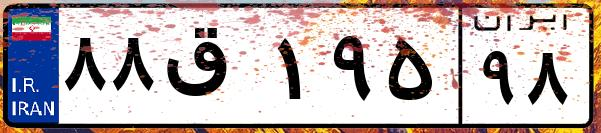1: (270, 28, 330, 110)
5: (385, 28, 445, 110)
8: (57, 26, 110, 100), (525, 38, 570, 115), (110, 28, 158, 98)
9: (330, 28, 385, 110), (475, 38, 525, 113)
ق: (158, 20, 270, 120)
